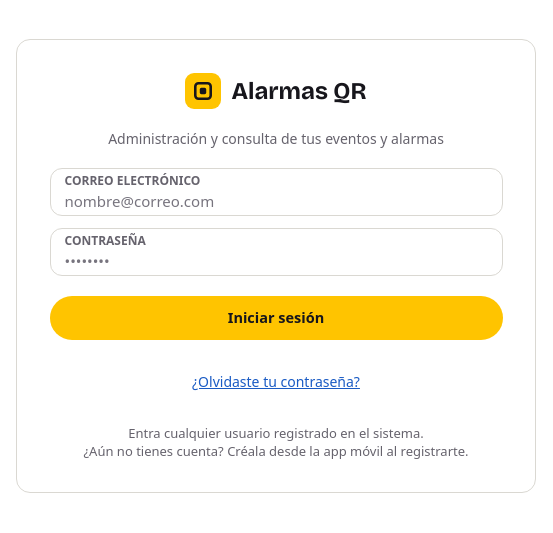
Test: W00 · Inicio de sesión › ⏩ el foco en la contraseña muestra el error de credenciales
Focus the password field labelled "CONTRASEÑA" at (276, 261), box [64,251,488,271]
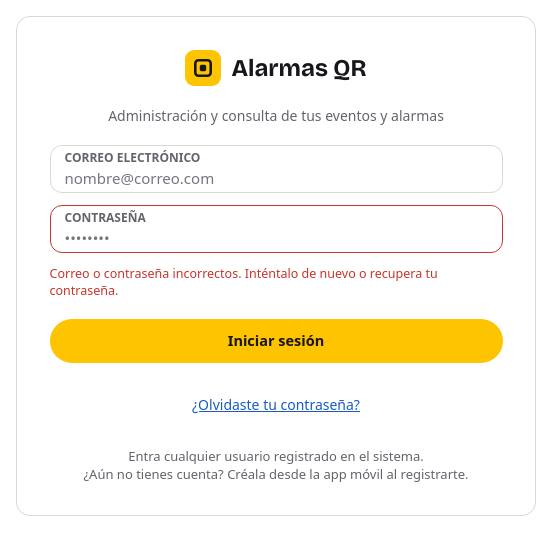
Result: the text "Correo o contraseña incorrectos. Inténtalo de nuevo o recupera tu contraseña." is shown at [50,264,502,298]
